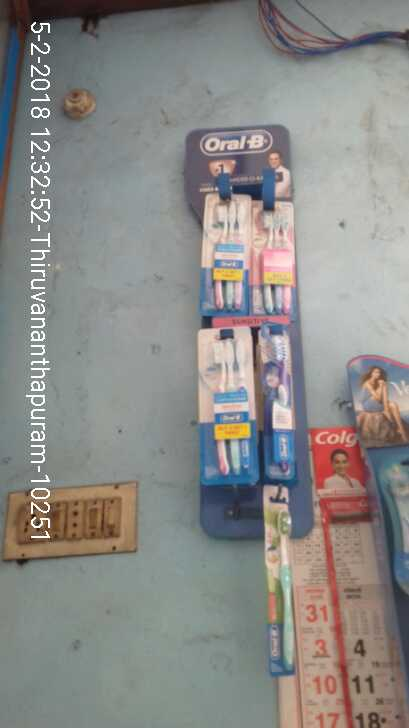oralb: (197, 329, 256, 481), (263, 480, 296, 677), (257, 320, 296, 478), (201, 192, 249, 315), (249, 199, 296, 320)
